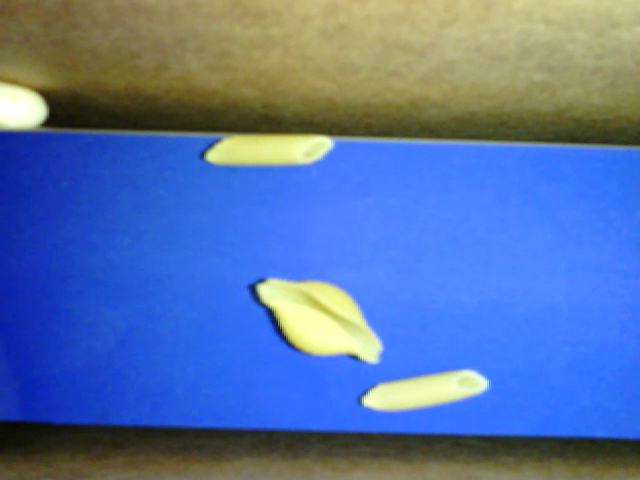penne: (359, 367, 491, 413), (203, 134, 334, 165)
shell: (255, 277, 385, 364)
